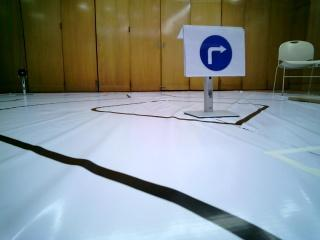right: (189, 27, 244, 73)
